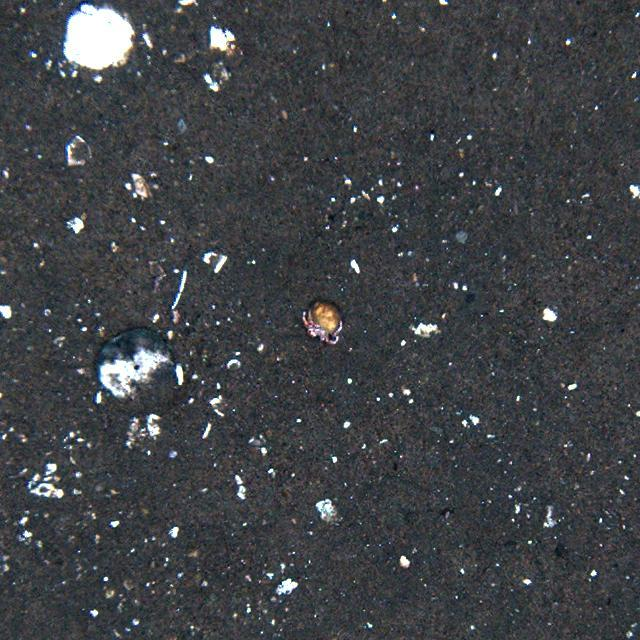crab: (297, 300, 344, 344)
